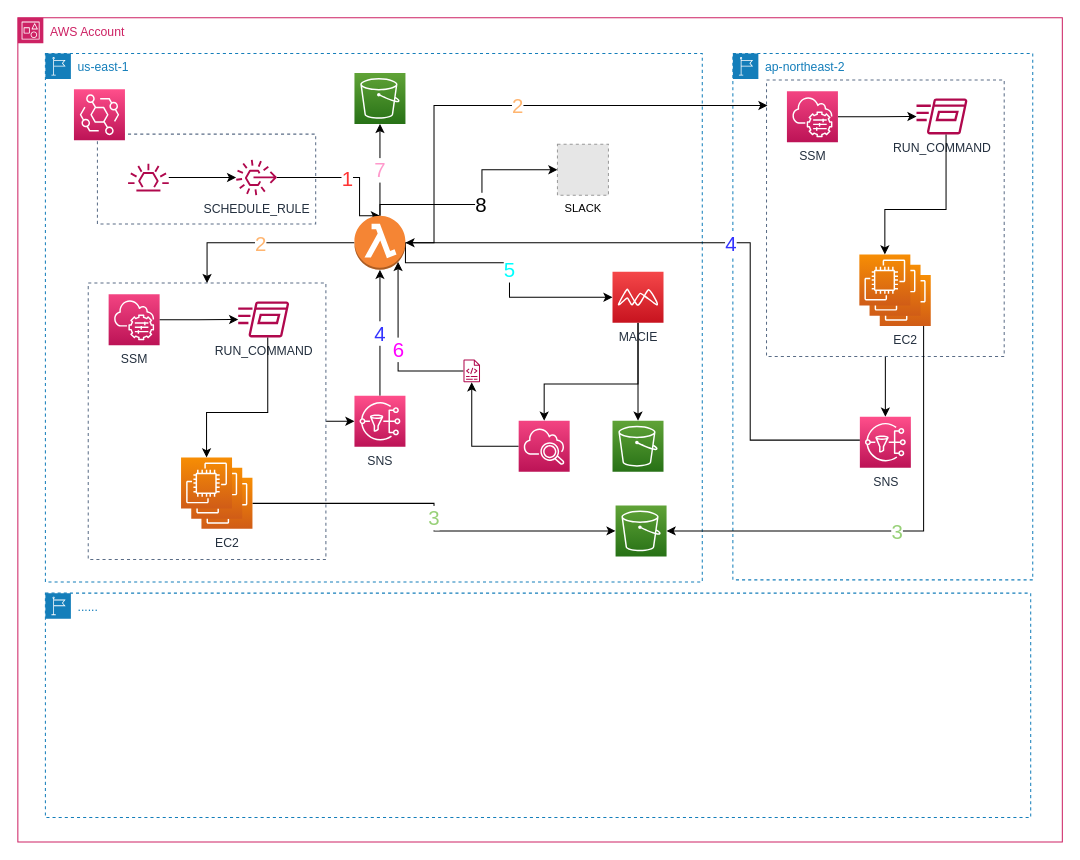
Some shapes in this 1080 by 860 pixel diagram are drawn without their labels. Grey dashed boxes stand in for pictures. The centre of each missing label's shape, as x and y in pixels:
"classificationjobs SUBSCRIPTION FILTER" goes at point (471, 370).
"CLOUDWATCH" goes at point (544, 446).
"DEFAULT_BUS" goes at point (148, 177).
"DETECT_RESULT" goes at point (379, 98).
"EVENTBRIDGE" goes at point (99, 114).
"LAMBDA" goes at point (379, 242).
"MACIE_RESULT" goes at point (637, 446).
"PRIVATE_INFO" goes at point (641, 530).
